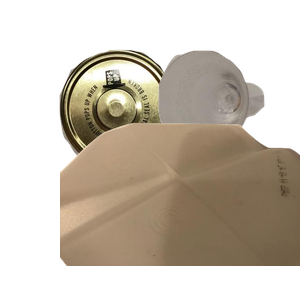glass: (156, 48, 300, 189)
metal: (57, 47, 227, 211)
plastic: (60, 120, 300, 300)
trash: (86, 158, 242, 300)
